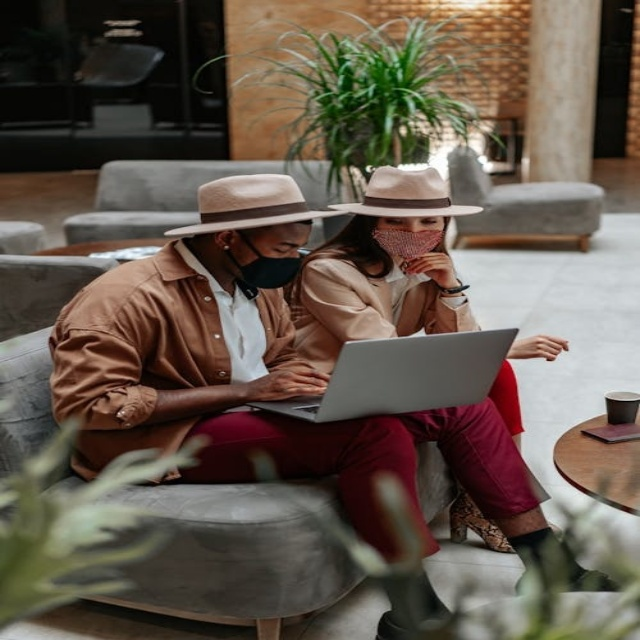Mascara: (229, 233, 305, 289), (372, 228, 445, 268)
Sin_gafas: (250, 235, 302, 255), (379, 217, 442, 226)
Sin_guantes: (247, 362, 334, 401), (401, 252, 460, 283), (507, 333, 570, 361)
